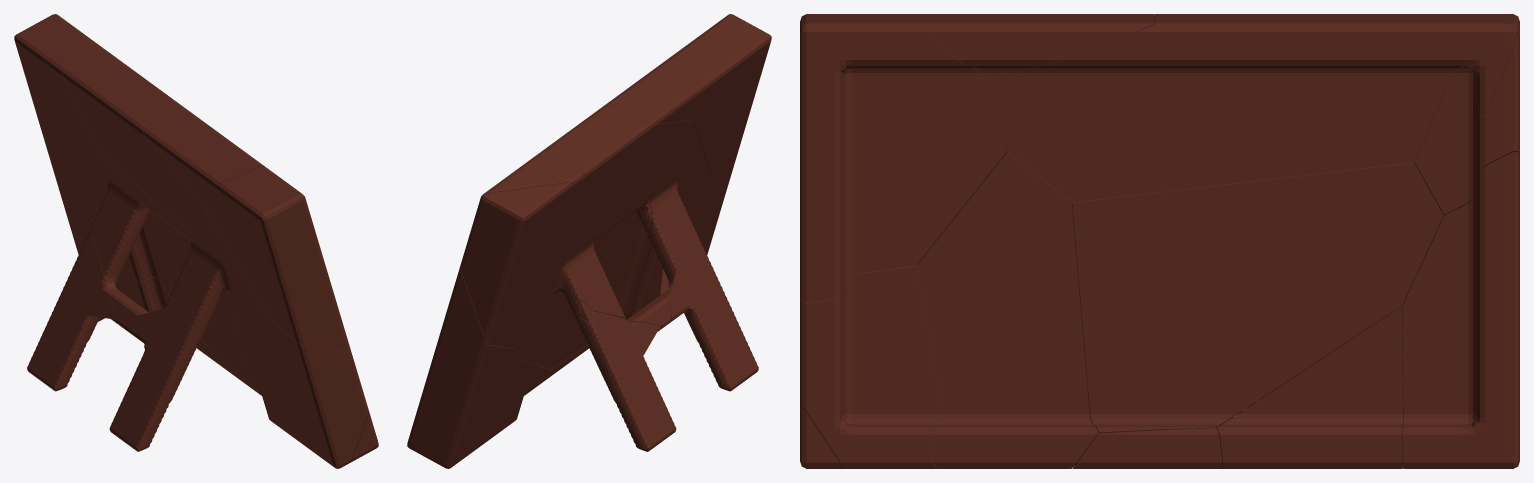
Rendered from broken_picture_frame.fbx.
3 renders of one model, left to right at view 1: azimuth 30°, elevation 25°; view 2: azimuth 150°, elevation 25°; view 3: azimuth 270°, elevation 25°, orthographic. The views are drawn at different scales.
Parts seen in each view (by area): view 1: Picture Frame_cell.007, Picture Frame_cell.012, Picture Frame_cell.004, Picture Frame_cell.002, Picture Frame_cell.001, Picture Frame_cell.008, Picture Frame_cell.014, Picture Frame_cell.003, Picture Frame_cell.011, Picture Frame_cell.006, Picture Frame_cell.010, Picture Frame_cell.005; view 2: Picture Frame_cell.012, Picture Frame_cell.008, Picture Frame_cell.004, Picture Frame_cell.006, Picture Frame_cell.002, Picture Frame_cell.007, Picture Frame_cell.014, Picture Frame_cell.003, Picture Frame_cell.010, Picture Frame_cell.011, Picture Frame_cell.001; view 3: Picture Frame_cell.002, Picture Frame_cell.004, Picture Frame_cell.007, Picture Frame_cell.010, Picture Frame_cell.006, Picture Frame_cell.001, Picture Frame_cell.011, Picture Frame_cell.008, Picture Frame_cell.003, Picture Frame_cell, Picture Frame_cell.005.
Boxes of the visible parts, bbox=[...] form: Picture Frame_cell.007: bbox=[202, 165, 350, 352]; Picture Frame_cell.012: bbox=[109, 205, 271, 451]; Picture Frame_cell.004: bbox=[55, 14, 202, 232]; Picture Frame_cell.002: bbox=[93, 153, 250, 382]; Picture Frame_cell.001: bbox=[270, 319, 369, 468]; Picture Frame_cell.008: bbox=[14, 14, 99, 217]; Picture Frame_cell.014: bbox=[27, 235, 118, 391]; Picture Frame_cell.003: bbox=[142, 106, 263, 200]; Picture Frame_cell.011: bbox=[116, 264, 213, 360]; Picture Frame_cell.006: bbox=[52, 165, 117, 289]; Picture Frame_cell.010: bbox=[227, 291, 271, 421]; Picture Frame_cell.005: bbox=[351, 413, 378, 461]; Picture Frame_cell.012: bbox=[636, 124, 758, 391]; Picture Frame_cell.008: bbox=[460, 183, 574, 348]; Picture Frame_cell.004: bbox=[479, 101, 694, 236]; Picture Frame_cell.006: bbox=[407, 265, 513, 468]; Picture Frame_cell.002: bbox=[513, 190, 671, 369]; Picture Frame_cell.007: bbox=[690, 14, 771, 175]; Picture Frame_cell.014: bbox=[578, 311, 676, 451]; Picture Frame_cell.003: bbox=[610, 43, 726, 124]; Picture Frame_cell.010: bbox=[587, 211, 647, 349]; Picture Frame_cell.011: bbox=[487, 355, 549, 441]; Picture Frame_cell.001: bbox=[649, 162, 734, 302]; Picture Frame_cell.002: bbox=[1071, 162, 1443, 439]; Picture Frame_cell.004: bbox=[993, 14, 1516, 202]; Picture Frame_cell.007: bbox=[800, 14, 1007, 302]; Picture Frame_cell.010: bbox=[916, 150, 1097, 468]; Picture Frame_cell.006: bbox=[1402, 152, 1519, 468]; Picture Frame_cell.001: bbox=[800, 264, 943, 468]; Picture Frame_cell.011: bbox=[1216, 306, 1403, 468]; Picture Frame_cell.008: bbox=[1391, 14, 1519, 229]; Picture Frame_cell.003: bbox=[918, 14, 1153, 81]; Picture Frame_cell: bbox=[1072, 428, 1222, 468]; Picture Frame_cell.005: bbox=[800, 408, 841, 468].
Bounding box in the file's own units: 96.69 × 152 × 242.
